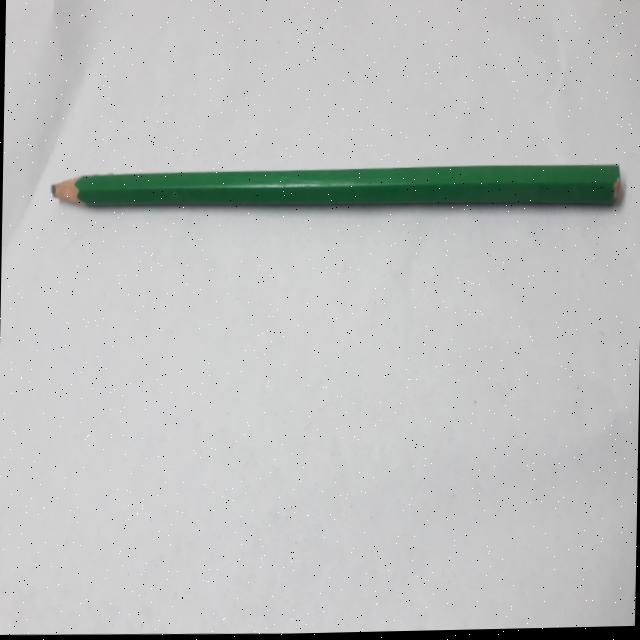pencil: (44, 152, 627, 230)
